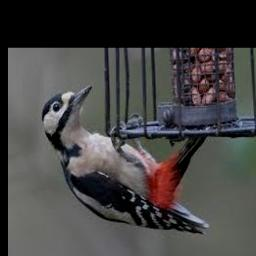Woodpecker: (41, 85, 209, 235)
